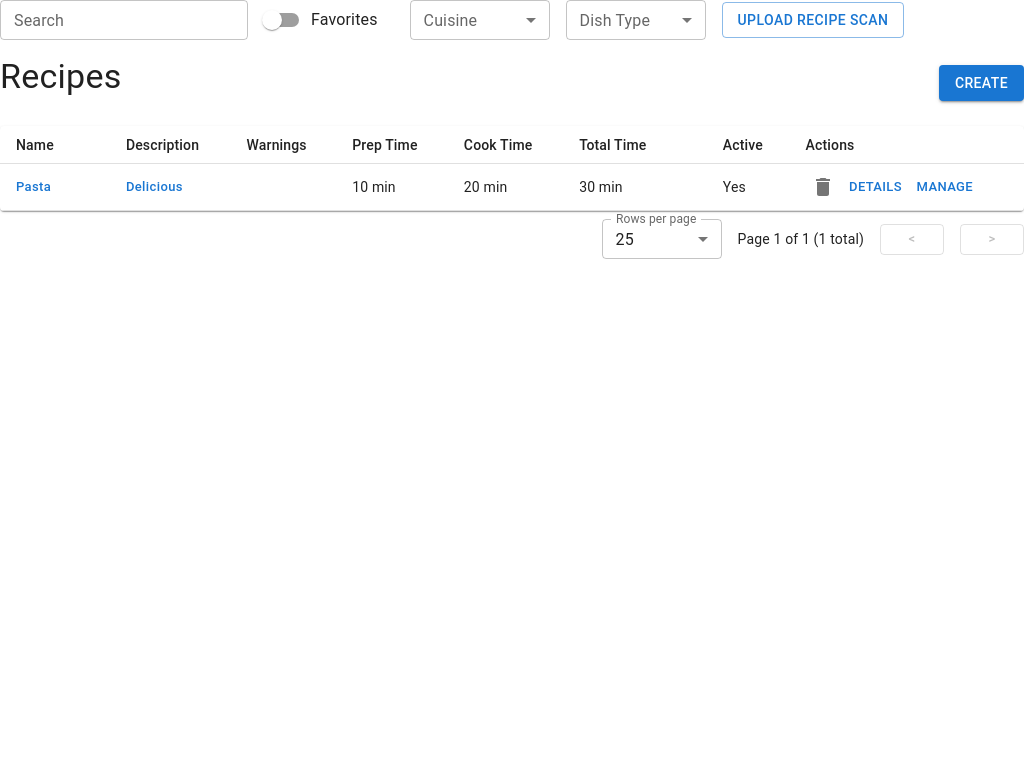
Test: recipes page › previews ingredients and steps from the name and description cells
Name cell opens the preview.
Click the button "Pasta" at (34, 187), box x1=16 y1=176 x2=51 y2=199
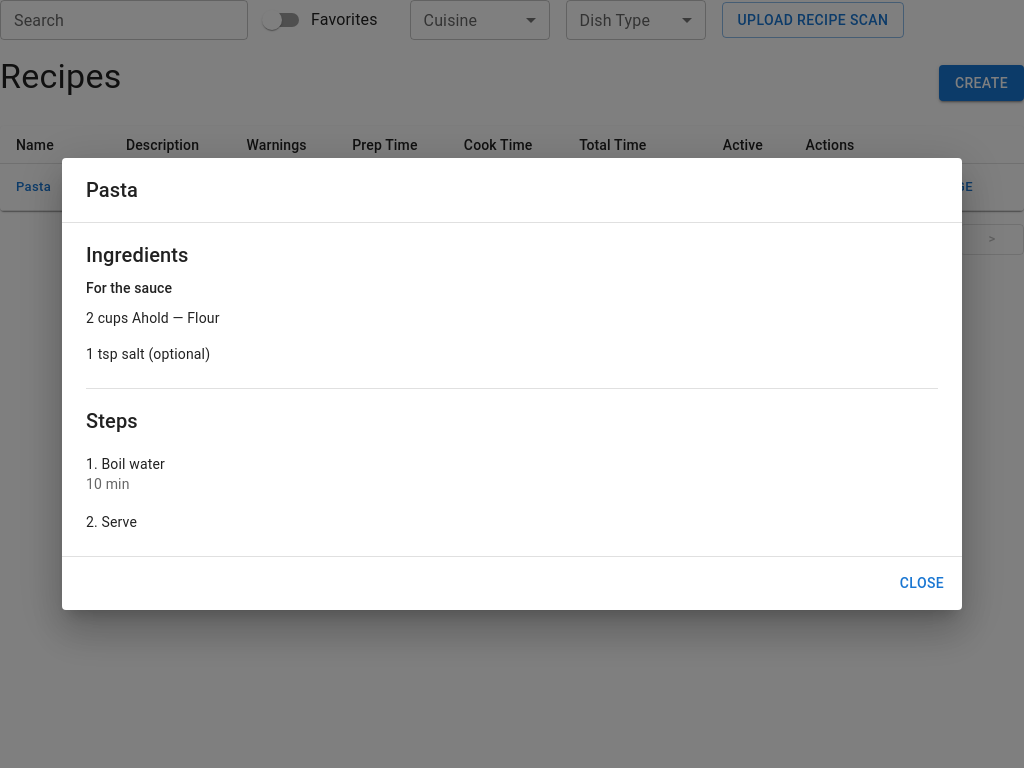
Now the heading "For the sauce" is shown, box x1=86 y1=280 x2=172 y2=296
Now the heading "Ingredients" is shown, box x1=86 y1=243 x2=189 y2=267
Now the text "2 cups Ahold — Flour" is shown, box x1=86 y1=310 x2=220 y2=326
Click the button "Close" at (922, 584), box x1=890 y1=565 x2=954 y2=602
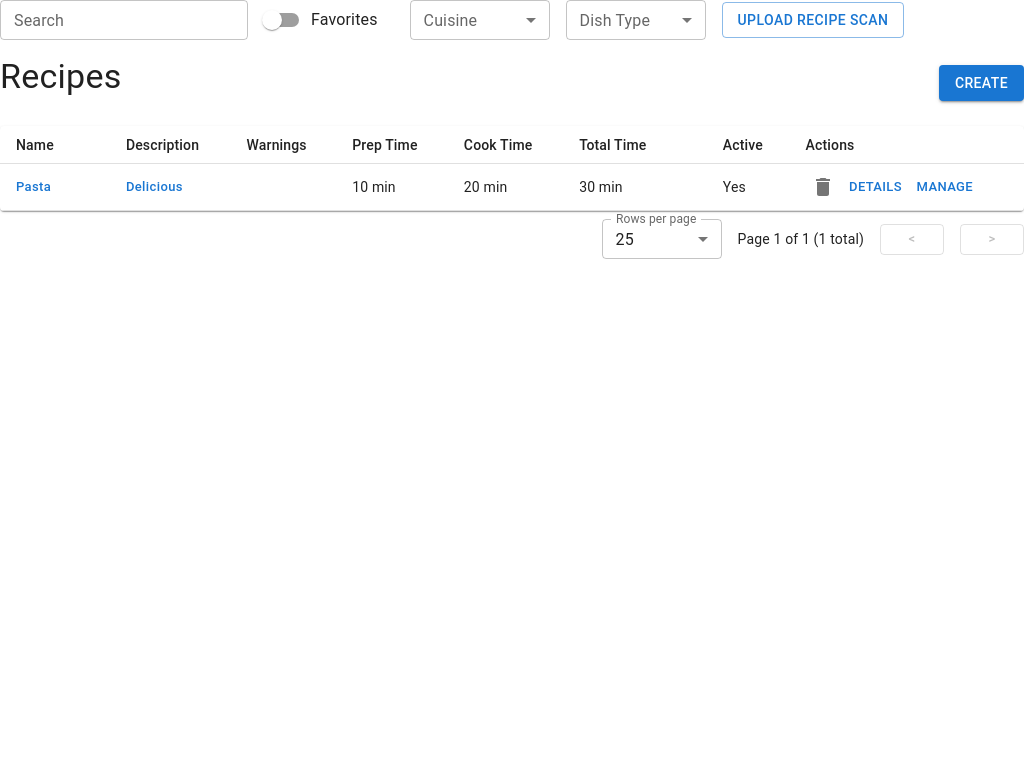
Now the dialog is gone
Description cell opens the same preview.
Click the button "Delicious" at (154, 187), box x1=126 y1=176 x2=183 y2=199
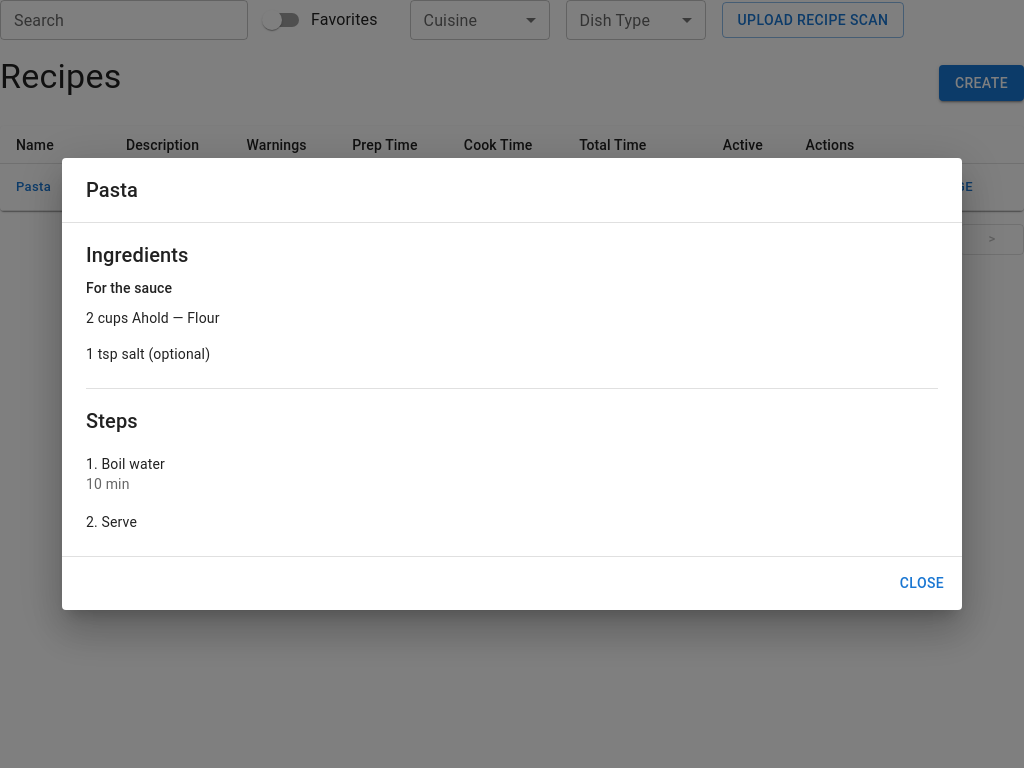
Now the dialog is shown, box x1=62 y1=158 x2=962 y2=610
